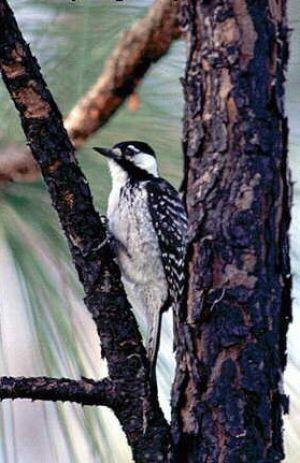Woodpecker: (90, 139, 191, 372)
